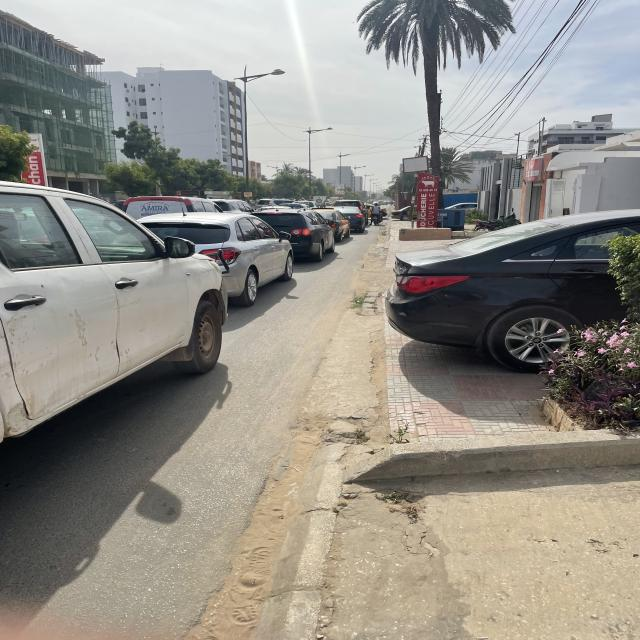moto: (369, 203, 385, 228)
particulier: (1, 181, 225, 451), (386, 208, 640, 373), (134, 212, 296, 307), (253, 213, 337, 264), (120, 195, 224, 226), (334, 207, 369, 235)
taxi: (313, 211, 355, 244)
